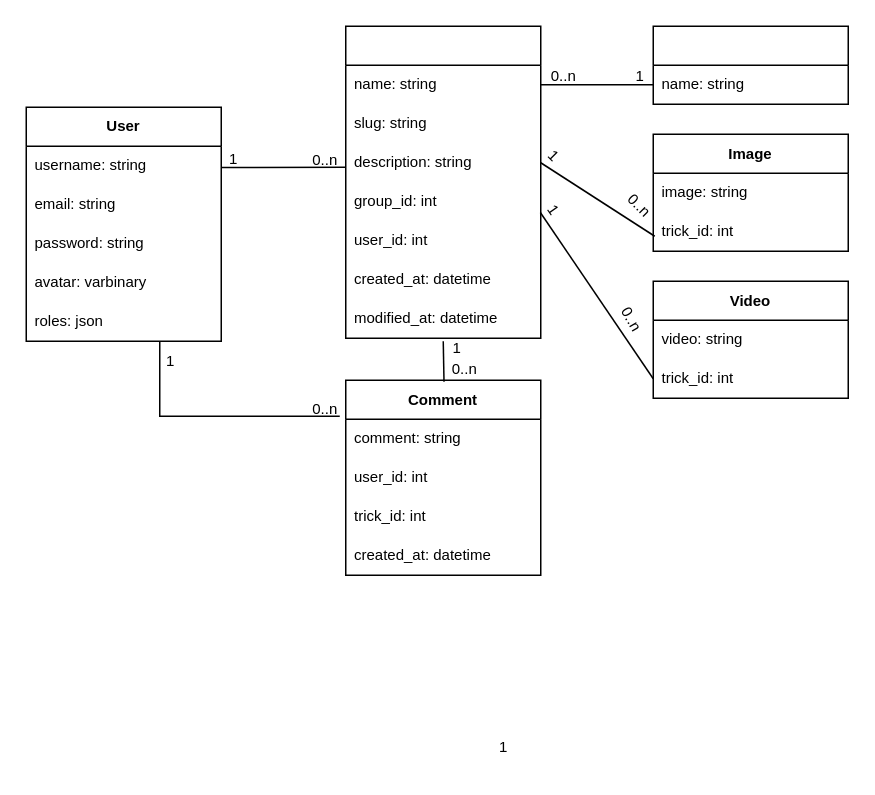
The diagram is 875 pixels wide and 795 high, and some of its shapes have lost their labels. The shapes that lost their labels are listed below. From the top down, each one's box as (x1, y1, x2, y2) in pixels, then its label:
(652, 25, 848, 104): Group
(344, 25, 541, 338): Trick
